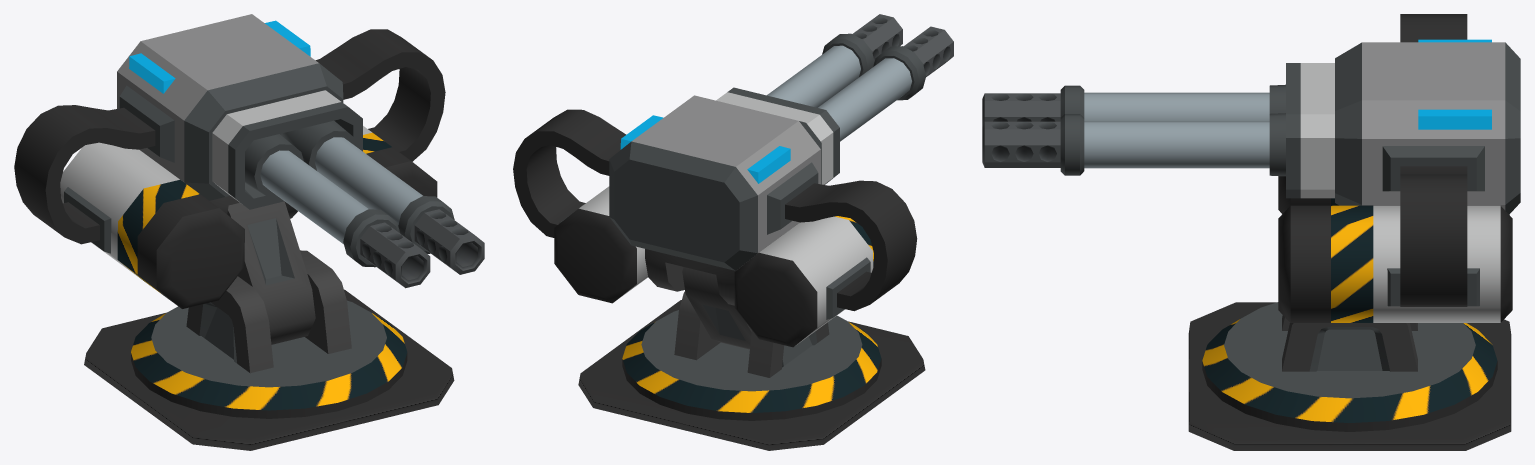
File: Turret_005.glb
3 views of the same model, side by side, from view 1: azimuth 30°, elevation 25°; view 2: azimuth 150°, elevation 25°; view 3: azimuth 270°, elevation 25° (orthographic). The views are drawn at different scales.
Parts seen in each view (by area): view 1: Turret_005_body_001, Turret_005, Turret_005_barrel_001, Turret_005_barrel_002, Turret_005_body_002; view 2: Turret_005_body_001, Turret_005, Turret_005_barrel_001, Turret_005_barrel_002, Turret_005_body_002; view 3: Turret_005_body_001, Turret_005, Turret_005_barrel_002, Turret_005_barrel_001.
Boxes of the visible parts, left/top/right/bottom form: Turret_005_body_001: left=14, top=14, right=445, bottom=308; Turret_005: left=84, top=250, right=454, bottom=450; Turret_005_barrel_001: left=260, top=150, right=430, bottom=288; Turret_005_barrel_002: left=315, top=137, right=484, bottom=274; Turret_005_body_002: left=227, top=201, right=315, bottom=344; Turret_005_body_001: left=513, top=87, right=917, bottom=347; Turret_005: left=578, top=291, right=925, bottom=450; Turret_005_barrel_001: left=818, top=26, right=953, bottom=141; Turret_005_barrel_002: left=767, top=14, right=902, bottom=107; Turret_005_body_002: left=682, top=267, right=751, bottom=349; Turret_005_body_001: left=1269, top=14, right=1520, bottom=322; Turret_005: left=1188, top=302, right=1511, bottom=450; Turret_005_barrel_002: left=982, top=114, right=1269, bottom=175; Turret_005_barrel_001: left=982, top=85, right=1269, bottom=126.
Size of the model in its own units: 2.04 by 1.43 by 2.23.
2 materials, 2 textured.
